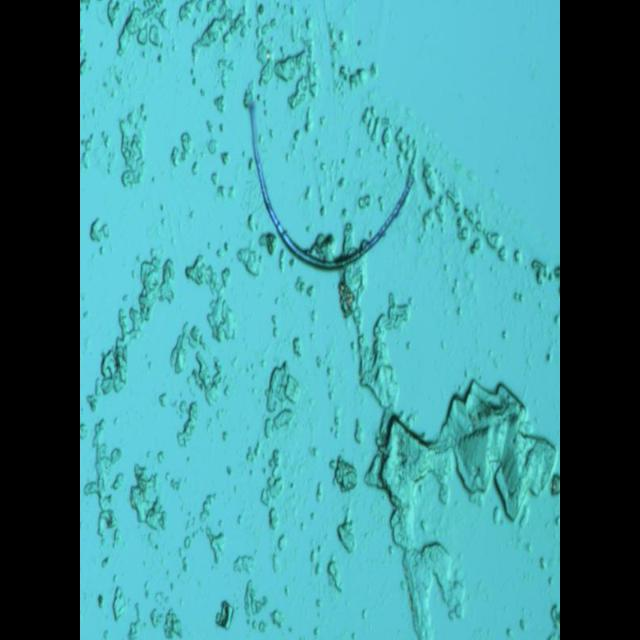Fibre: (244, 92, 423, 276)
